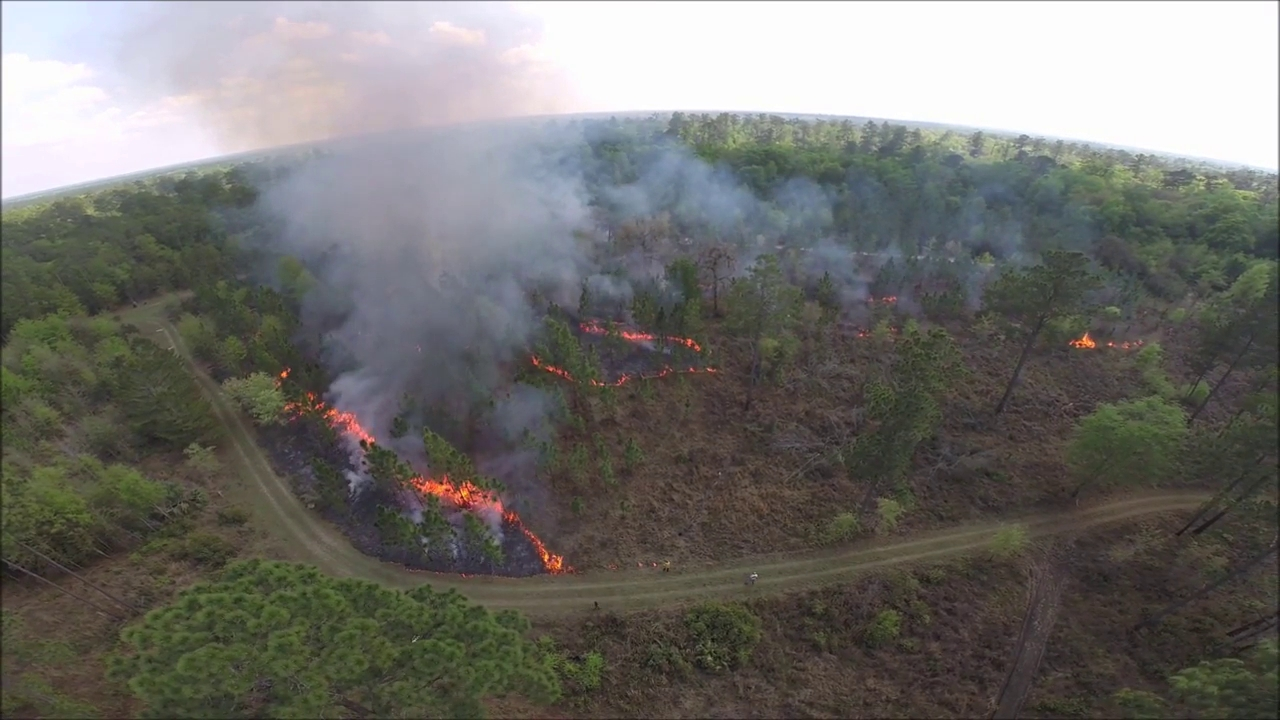forest_fire: (409, 474, 573, 572), (286, 391, 375, 445), (577, 319, 702, 352), (587, 365, 715, 385), (1067, 330, 1143, 348), (529, 354, 575, 381), (278, 367, 288, 381)
